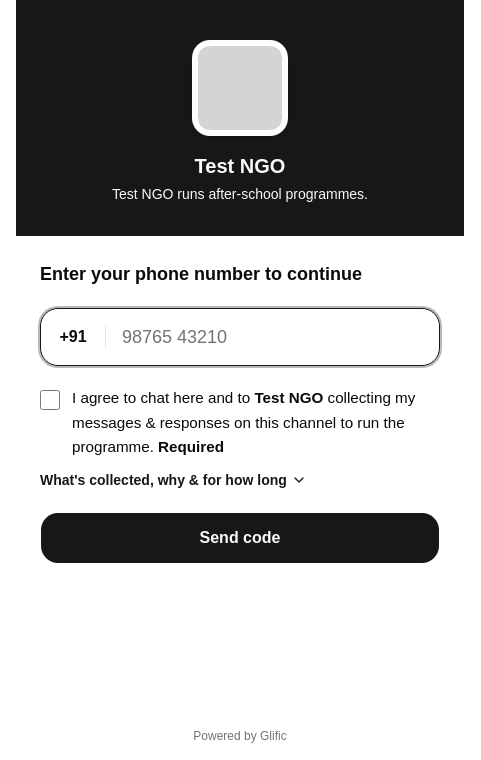
Test: <Login /> › does not repeat the consent on the OTP step
The width and height of the screenshot is (481, 760).
Expected: the heading with test id "orgName" reads "Test NGO", [195,155,285,177]
Click the checkbox with test id "consentCheckbox". click: (50, 400)
box: [40,390,60,410]
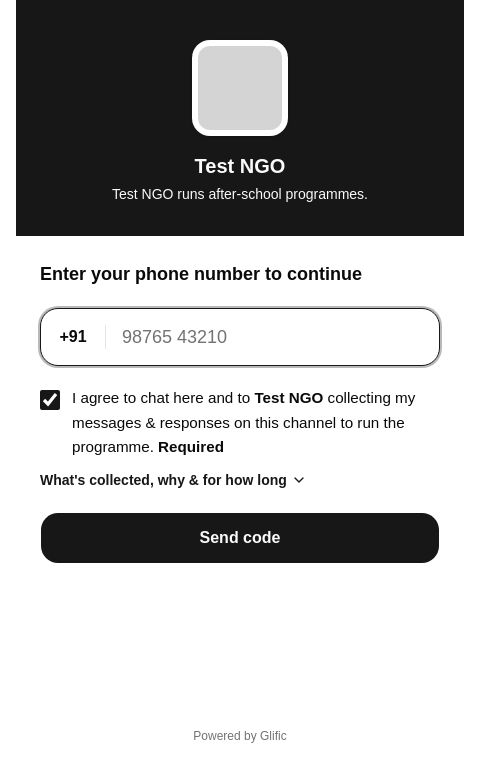
Type "9999999999" into the field with test id "phoneInput". click: (272, 337)
box: [106,309,439,365]
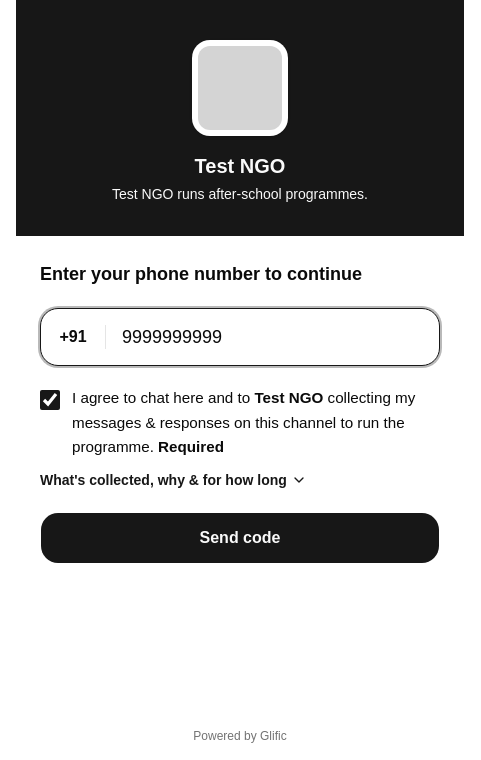
Click the button with test id "phoneSubmit". click: (240, 538)
box: [40,512,440,564]
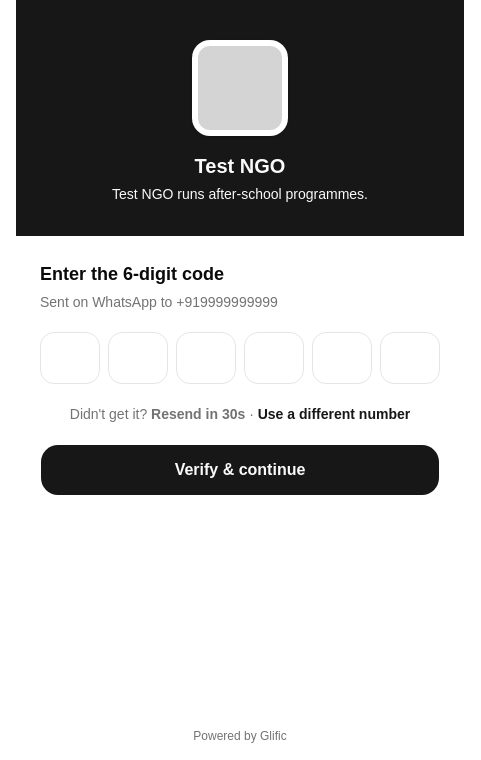
Now the heading "Enter the 6-digit code" is shown, box [40,264,224,284]
Now the label with test id "consentNotice" is gone
